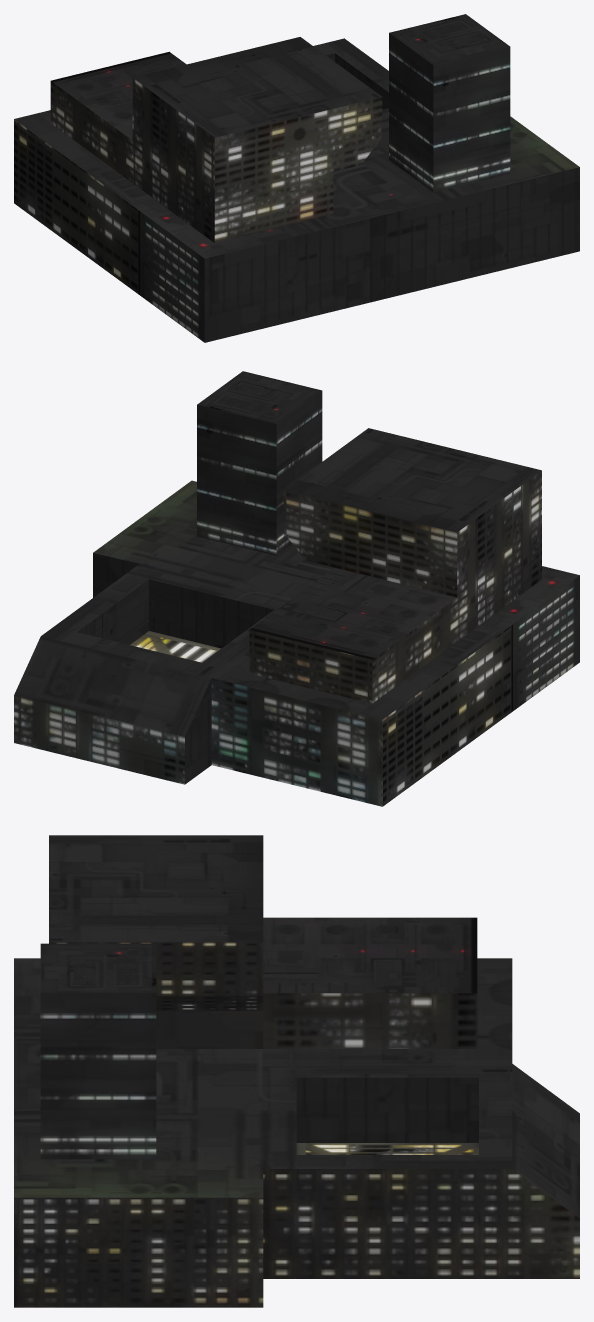
The model's file is scifi_building_53.obj.
3 views of the same model, one above another, from view 1: azimuth 30°, elevation 25°; view 2: azimuth 150°, elevation 25°; view 3: azimuth 270°, elevation 25° (orthographic). The views are drawn at different scales.
Visible parts, largest first — view 1: building_53; view 2: building_53; view 3: building_53.
Boxes of the visible parts, bbox=[...] form: building_53: bbox=[14, 14, 579, 342]; building_53: bbox=[14, 371, 579, 806]; building_53: bbox=[14, 835, 579, 1307].
Bounding box in the file's own units: 152 × 82.24 × 152.
1 material, 1 textured.
